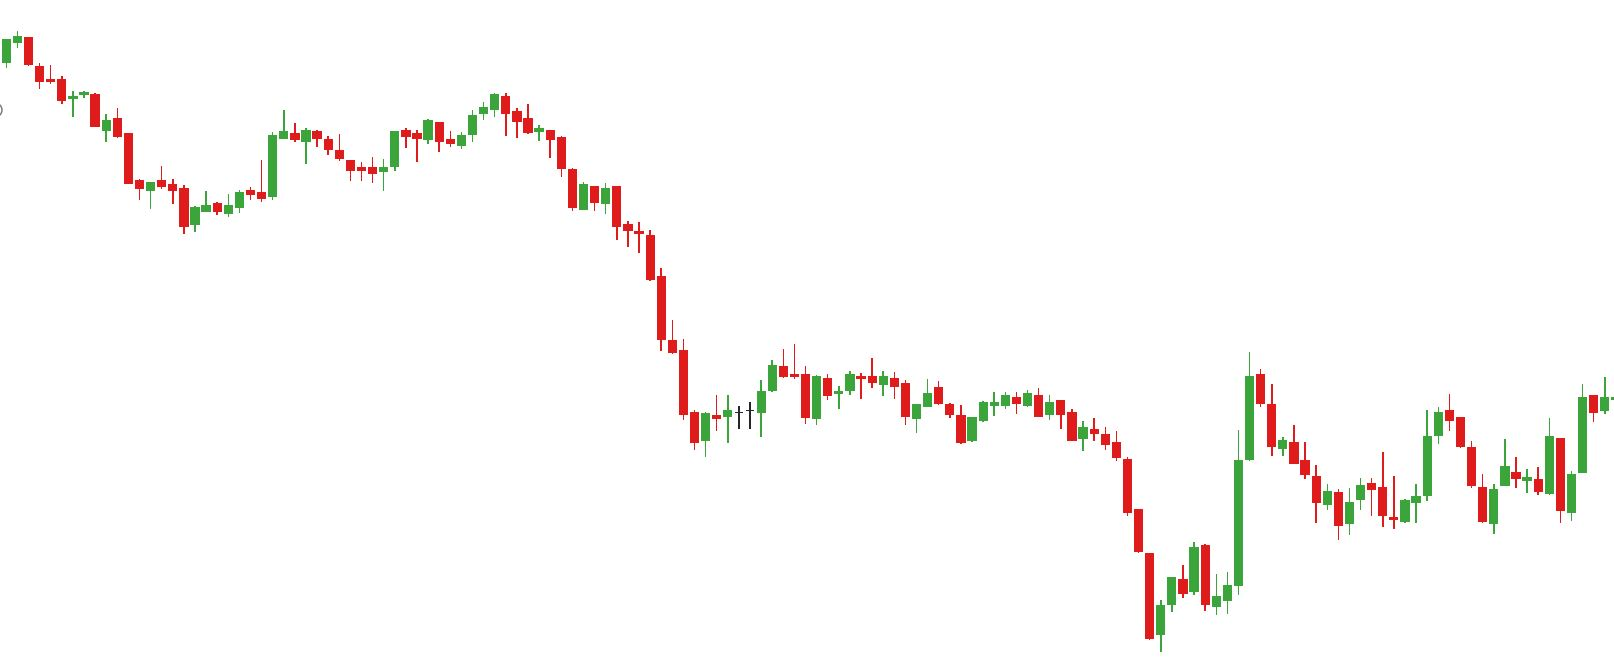buy: (1407, 434, 1500, 545)
